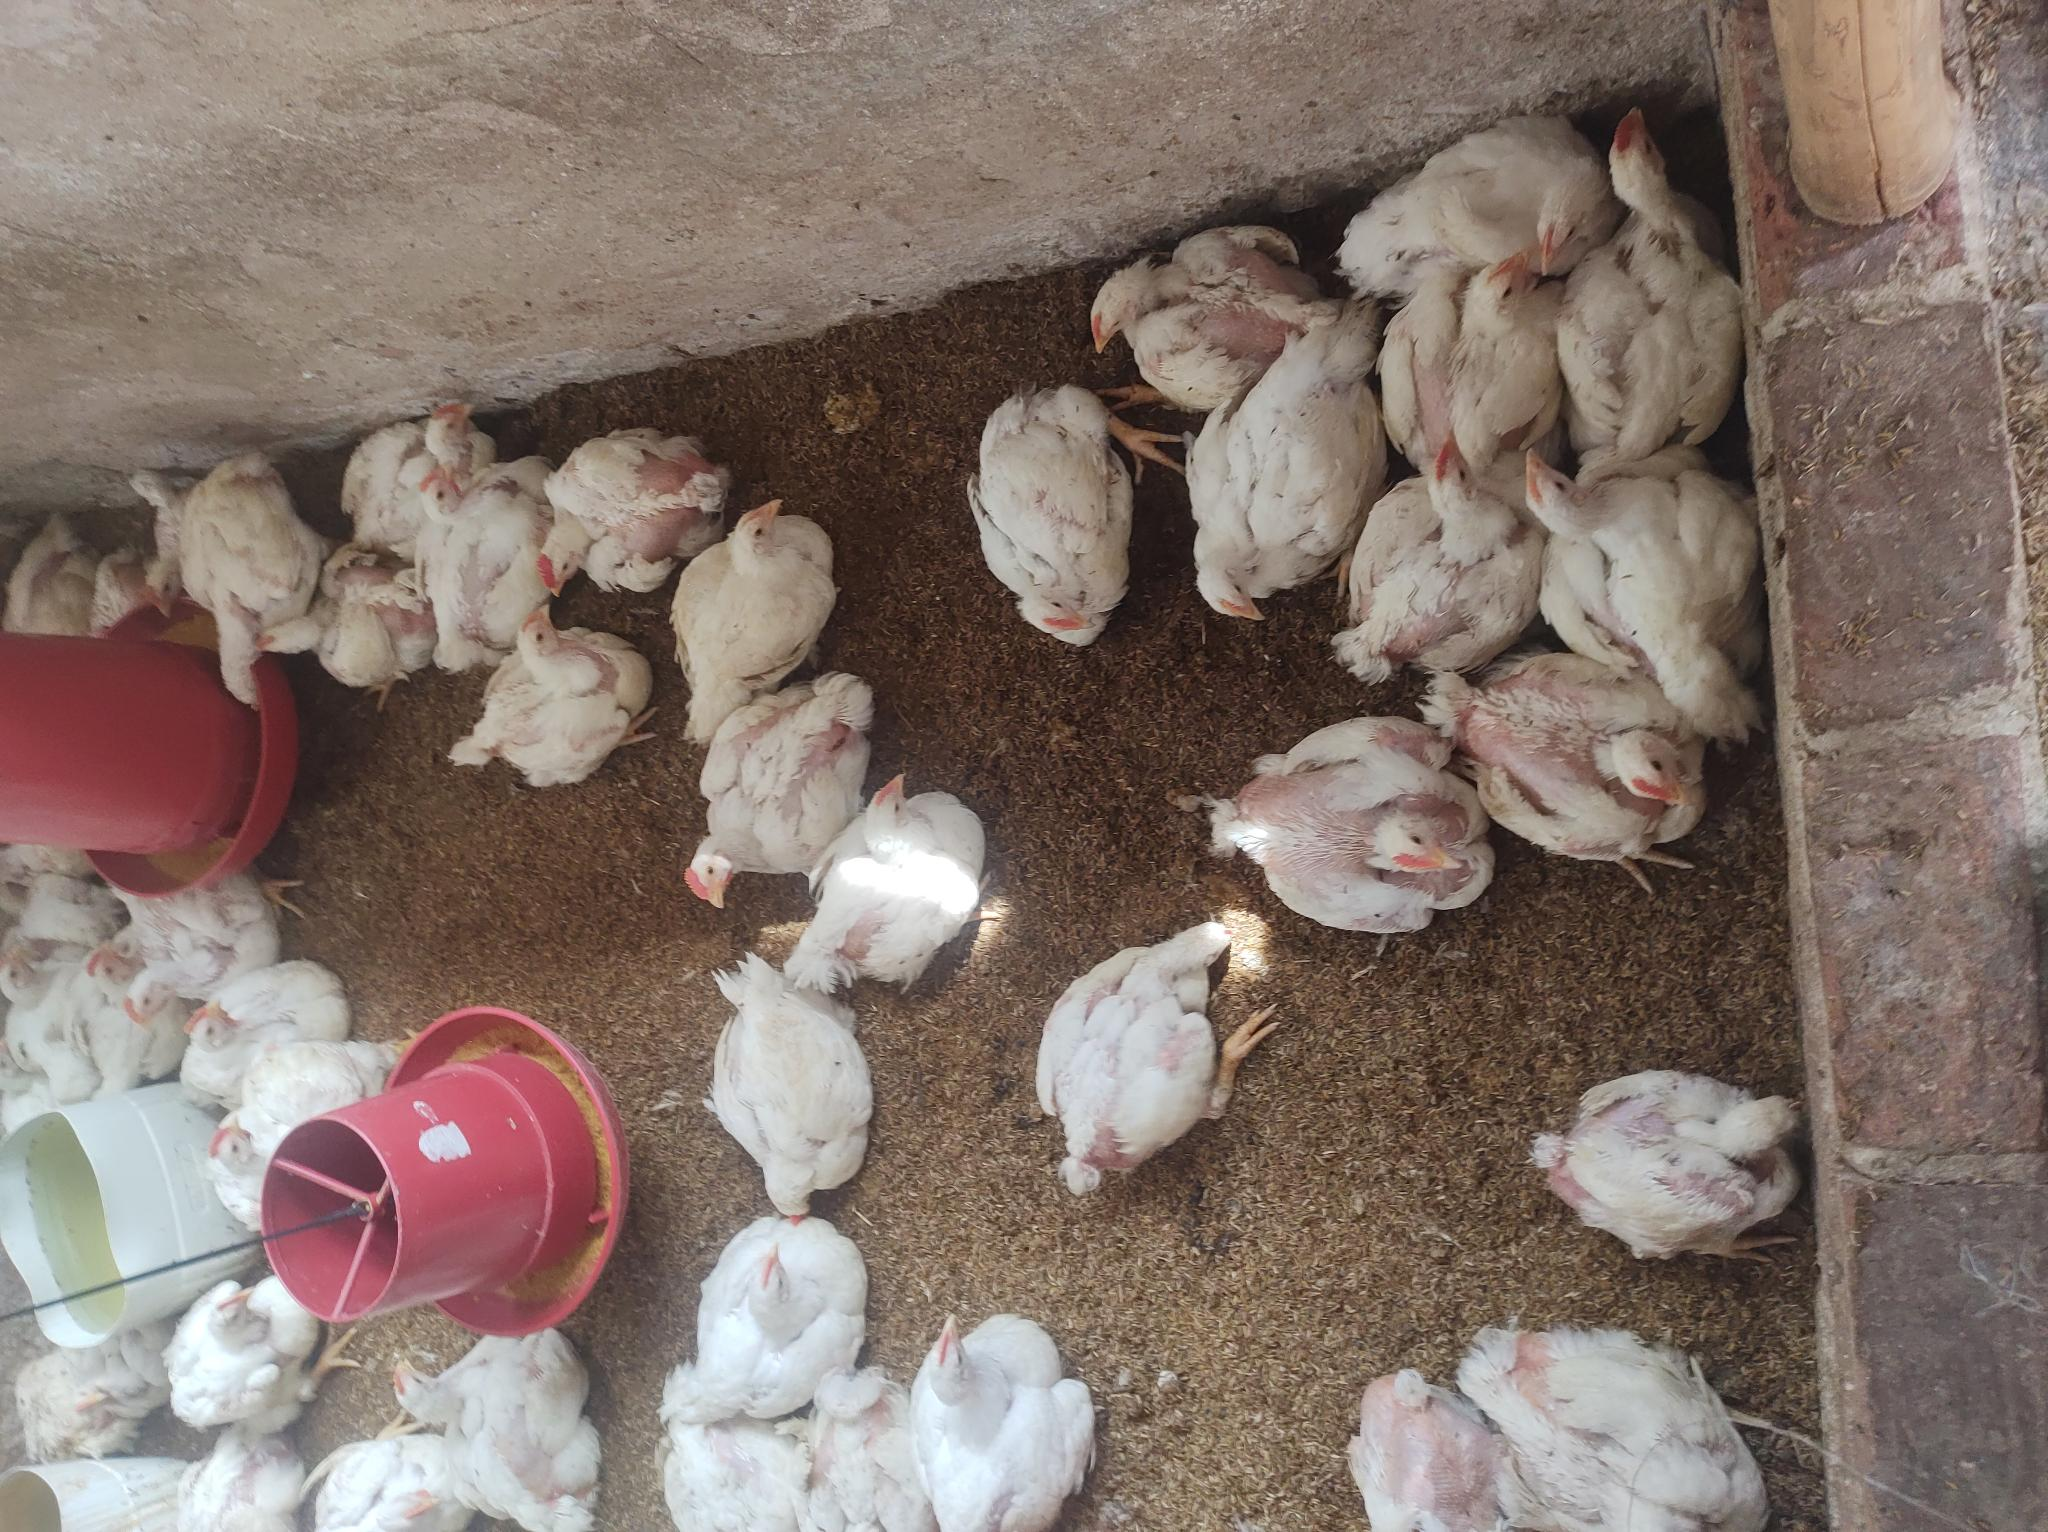Pollos: (1482, 1278, 1874, 1532), (1541, 439, 1792, 732), (1433, 636, 1717, 890), (1189, 711, 1495, 941), (1034, 908, 1266, 1199), (1572, 101, 1746, 467), (640, 658, 886, 909), (1195, 303, 1372, 636), (1544, 1062, 1810, 1270), (960, 386, 1155, 655), (1334, 433, 1538, 686), (705, 951, 886, 1233), (376, 1315, 607, 1532), (785, 772, 989, 1015), (1347, 71, 1588, 275), (1088, 188, 1303, 417), (1377, 216, 1562, 475), (183, 1065, 436, 1250), (504, 417, 735, 615), (920, 1303, 1118, 1532), (644, 497, 840, 706), (183, 439, 319, 710), (418, 645, 671, 785), (1322, 1378, 1528, 1532), (130, 867, 302, 1048), (161, 1236, 335, 1408), (418, 417, 537, 665), (689, 1199, 862, 1366), (302, 507, 436, 723), (182, 970, 362, 1122), (10, 1334, 161, 1476), (809, 1361, 930, 1532), (634, 1418, 825, 1522), (10, 476, 109, 669), (302, 1427, 479, 1532), (174, 1427, 331, 1526), (330, 393, 491, 480), (97, 426, 195, 563), (0, 816, 93, 946), (0, 927, 71, 1056), (80, 933, 154, 1001)
